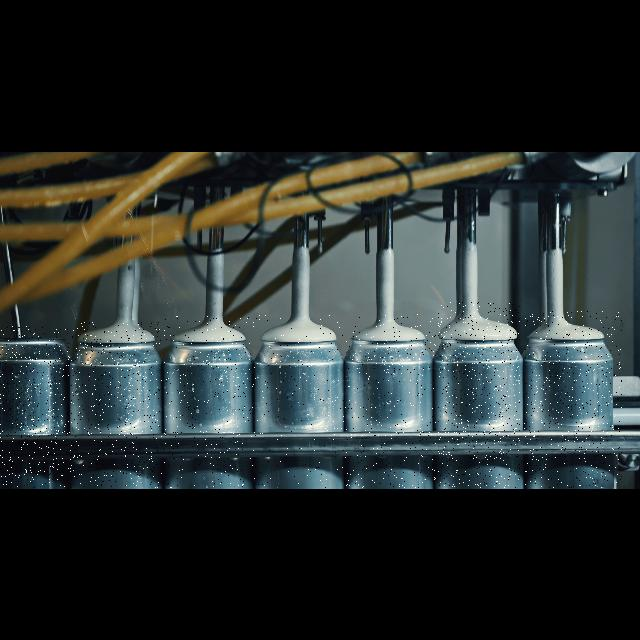empty: (0, 326, 76, 488)
full: (524, 310, 622, 488), (342, 314, 436, 488), (164, 316, 256, 488), (254, 314, 344, 488), (438, 302, 520, 488), (76, 322, 162, 488)
